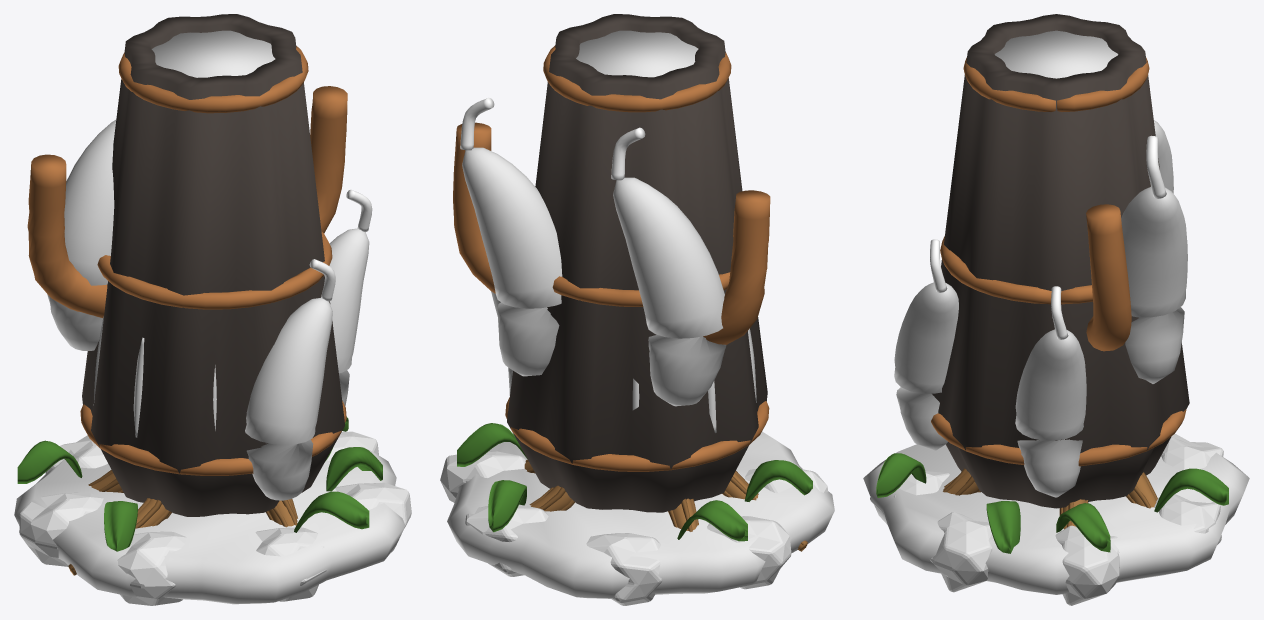
Rendered from chili-3.fbx.
The picture shows the model from 3 angles, left to right: view 1: azimuth 30°, elevation 25°; view 2: azimuth 150°, elevation 25°; view 3: azimuth 270°, elevation 25°; orthographic projection. The views are drawn at different scales.
Visible parts, largest first — view 1: Turret_Metal, EarthBed, Pods_PortalPeel, chili-3_Stone, chili-3_PortalBamboo, Core_Glow, chili-3_Bark, Pods_PortalBamboo; view 2: Turret_Metal, Pods_PortalPeel, EarthBed, chili-3_Stone, chili-3_PortalBamboo, Core_Glow, chili-3_Bark, Pods_PortalBamboo; view 3: Turret_Metal, Pods_PortalPeel, EarthBed, chili-3_Stone, chili-3_PortalBamboo, Core_Glow, Pods_PortalBamboo, chili-3_Bark.
Part boxes in pixels (x1,y1,x2,y2): Turret_Metal: (27, 14, 347, 516); EarthBed: (14, 435, 405, 604); Pods_PortalPeel: (47, 120, 369, 500); chili-3_Stone: (19, 431, 411, 605); chili-3_PortalBamboo: (17, 417, 382, 551); Core_Glow: (93, 30, 275, 437); chili-3_Bark: (68, 470, 297, 575); Pods_PortalBamboo: (309, 189, 372, 301); Turret_Metal: (453, 14, 770, 512); Pods_PortalPeel: (462, 147, 726, 406); EarthBed: (447, 431, 834, 598); chili-3_Stone: (440, 451, 827, 605); chili-3_PortalBamboo: (457, 423, 812, 541); Core_Glow: (576, 30, 756, 432); chili-3_Bark: (524, 459, 807, 551); Pods_PortalBamboo: (460, 97, 645, 180); Turret_Metal: (931, 14, 1189, 508); Pods_PortalPeel: (894, 120, 1187, 497); EarthBed: (863, 433, 1249, 594); chili-3_Stone: (870, 437, 1223, 605); chili-3_PortalBamboo: (876, 453, 1228, 553); Core_Glow: (994, 30, 1118, 78); Pods_PortalBamboo: (930, 135, 1166, 339); chili-3_Bark: (943, 468, 1157, 529).
Size of the model in its own units: 83.98 by 114 by 82.7.
